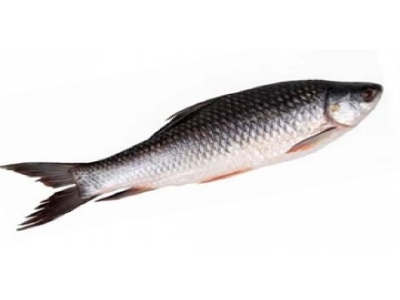rohu: (22, 71, 384, 235)
